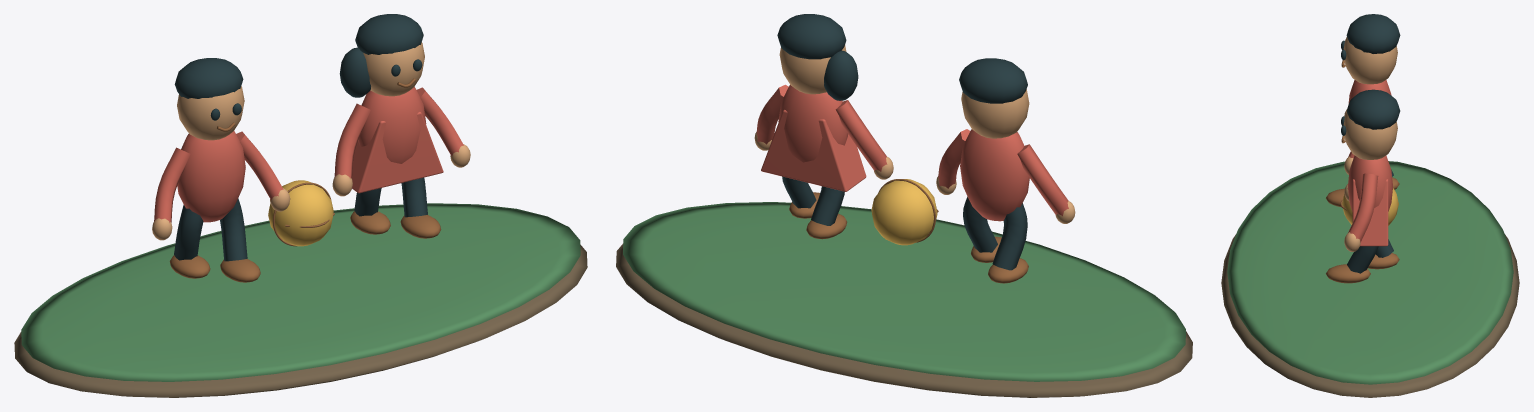
Rendered from children.glb.
3 renders of one model, left to right at view 1: azimuth 30°, elevation 25°; view 2: azimuth 150°, elevation 25°; view 3: azimuth 270°, elevation 25°, orthographic. The views are drawn at different scales.
Parts seen in each view (by area): view 1: children_surface_01, children_surface_05, children_surface_00, children_surface_03, children_surface_02, children_surface_04, children_surface_06; view 2: children_surface_01, children_surface_05, children_surface_03, children_surface_00, children_surface_02, children_surface_06, children_surface_04; view 3: children_surface_01, children_surface_00, children_surface_03, children_surface_05, children_surface_02, children_surface_04, children_surface_06.
Part boxes in pixels (<box>): children_surface_01: <box>21,203,580,381</box>; children_surface_05: <box>154,87,463,222</box>; children_surface_00: <box>14,244,587,397</box>; children_surface_03: <box>174,14,427,261</box>; children_surface_02: <box>152,42,470,240</box>; children_surface_04: <box>169,78,441,282</box>; children_surface_06: <box>268,180,333,246</box>; children_surface_01: <box>623,202,1185,381</box>; children_surface_05: <box>756,84,1068,221</box>; children_surface_03: <box>777,14,1027,270</box>; children_surface_00: <box>616,243,1192,397</box>; children_surface_02: <box>754,45,1075,223</box>; children_surface_06: <box>871,179,937,245</box>; children_surface_04: <box>789,179,1028,283</box>; children_surface_01: <box>1227,161,1513,384</box>; children_surface_00: <box>1221,234,1519,397</box>; children_surface_03: <box>1341,14,1400,273</box>; children_surface_05: <box>1347,80,1392,246</box>; children_surface_02: <box>1343,37,1397,251</box>; children_surface_04: <box>1326,60,1399,283</box>; children_surface_06: <box>1342,188,1398,225</box>.
Bounding box in the file's own units: 4.56 × 2.23 × 2.5.
